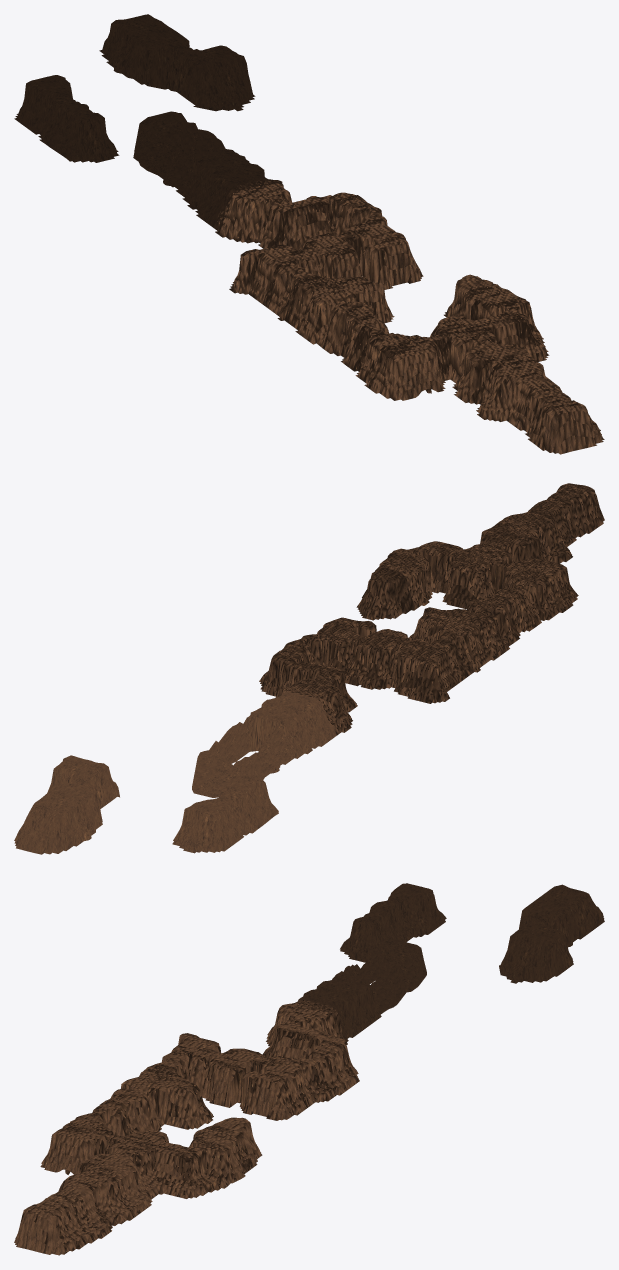
Rendered from terrenoteste.fbx.
3 views of the same model, one above another, from view 1: azimuth 30°, elevation 25°; view 2: azimuth 150°, elevation 25°; view 3: azimuth 330°, elevation 25° (orthographic). The views are drawn at different scales.
Parts seen in each view (by area): view 1: pPlane1; view 2: pPlane1; view 3: pPlane1.
Boxes of the visible parts, x1=… form: pPlane1: x1=14, y1=14, x2=604, y2=454; pPlane1: x1=14, y1=483, x2=604, y2=854; pPlane1: x1=14, y1=883, x2=604, y2=1255.
Size of the model in its own units: 71.96 by 13.15 by 301.
